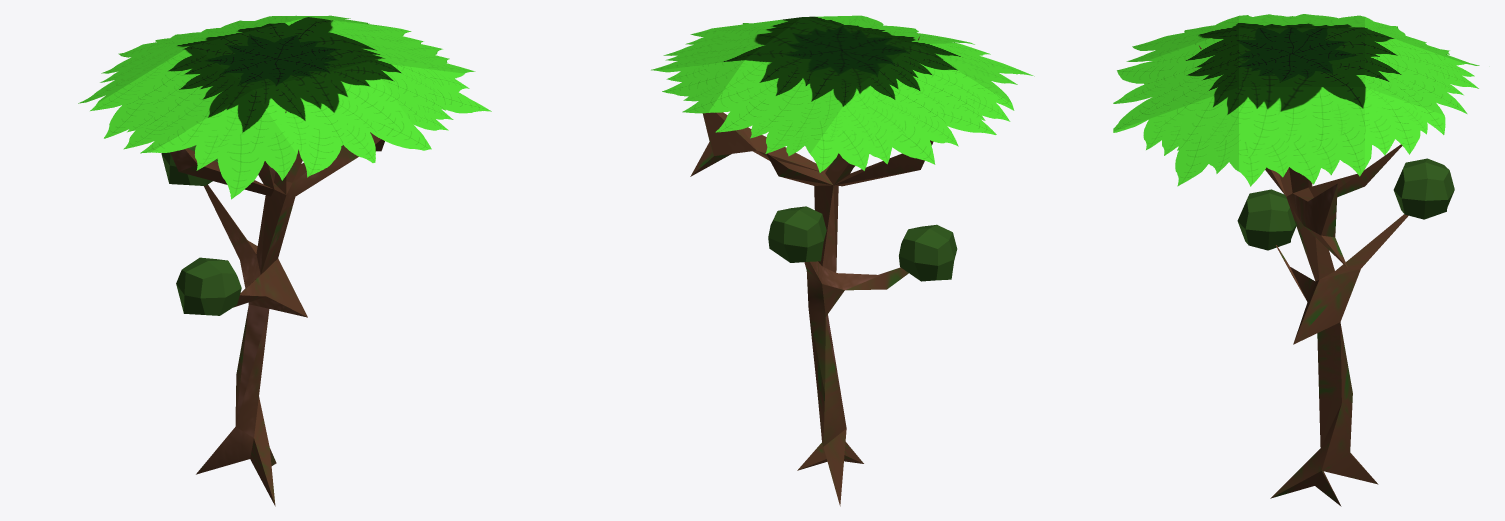
Rendered from ArvoreSavana1LOD1.fbx.
The picture shows the model from 3 angles, left to right: view 1: azimuth 30°, elevation 25°; view 2: azimuth 150°, elevation 25°; view 3: azimuth 270°, elevation 25°; orthographic projection. The views are drawn at different scales.
Parts seen in each view (by area): view 1: ArvoreSavana1TroncoLOD1; view 2: ArvoreSavana1TroncoLOD1; view 3: ArvoreSavana1TroncoLOD1.
Boxes of the visible parts, left/top/right/bottom form: ArvoreSavana1TroncoLOD1: left=78, top=15, right=491, bottom=506; ArvoreSavana1TroncoLOD1: left=651, top=15, right=1034, bottom=506; ArvoreSavana1TroncoLOD1: left=1113, top=14, right=1479, bottom=506.
Bounding box in the file's own units: 709 × 846 × 641.
